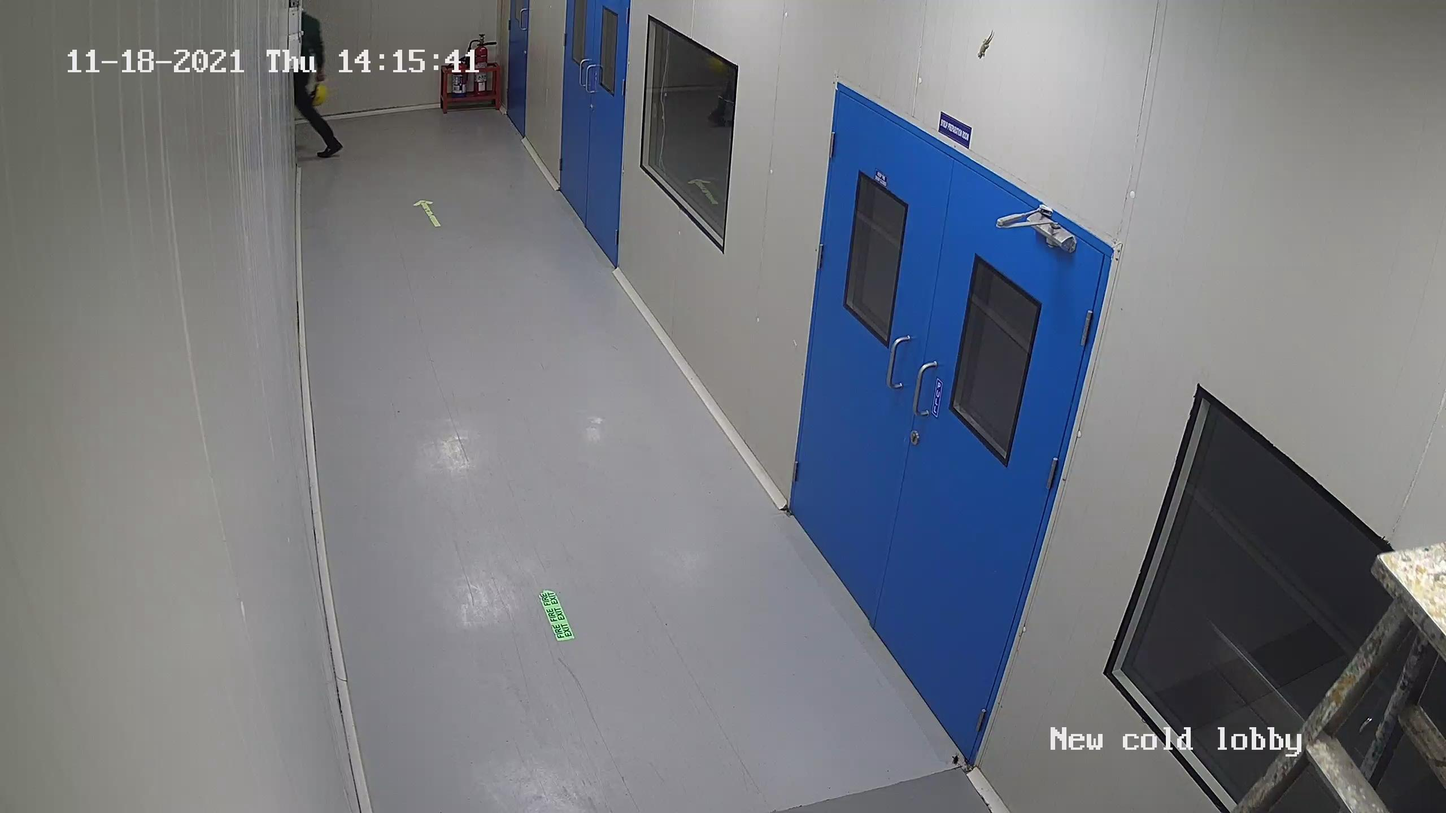cockroach: (946, 749, 963, 767)
